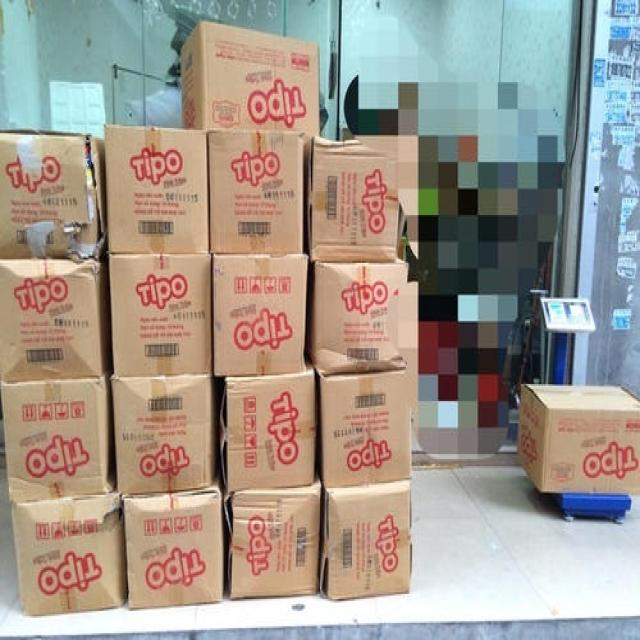box: (179, 20, 320, 138), (0, 379, 115, 505), (10, 493, 125, 616), (516, 382, 640, 495), (0, 130, 106, 259), (0, 259, 110, 382), (105, 125, 209, 253), (122, 486, 224, 611), (111, 374, 218, 493), (108, 254, 211, 375), (219, 364, 316, 492), (307, 259, 408, 377), (206, 131, 303, 253), (225, 478, 320, 601), (212, 254, 308, 375), (306, 138, 398, 259), (319, 480, 411, 601), (320, 370, 411, 488)
